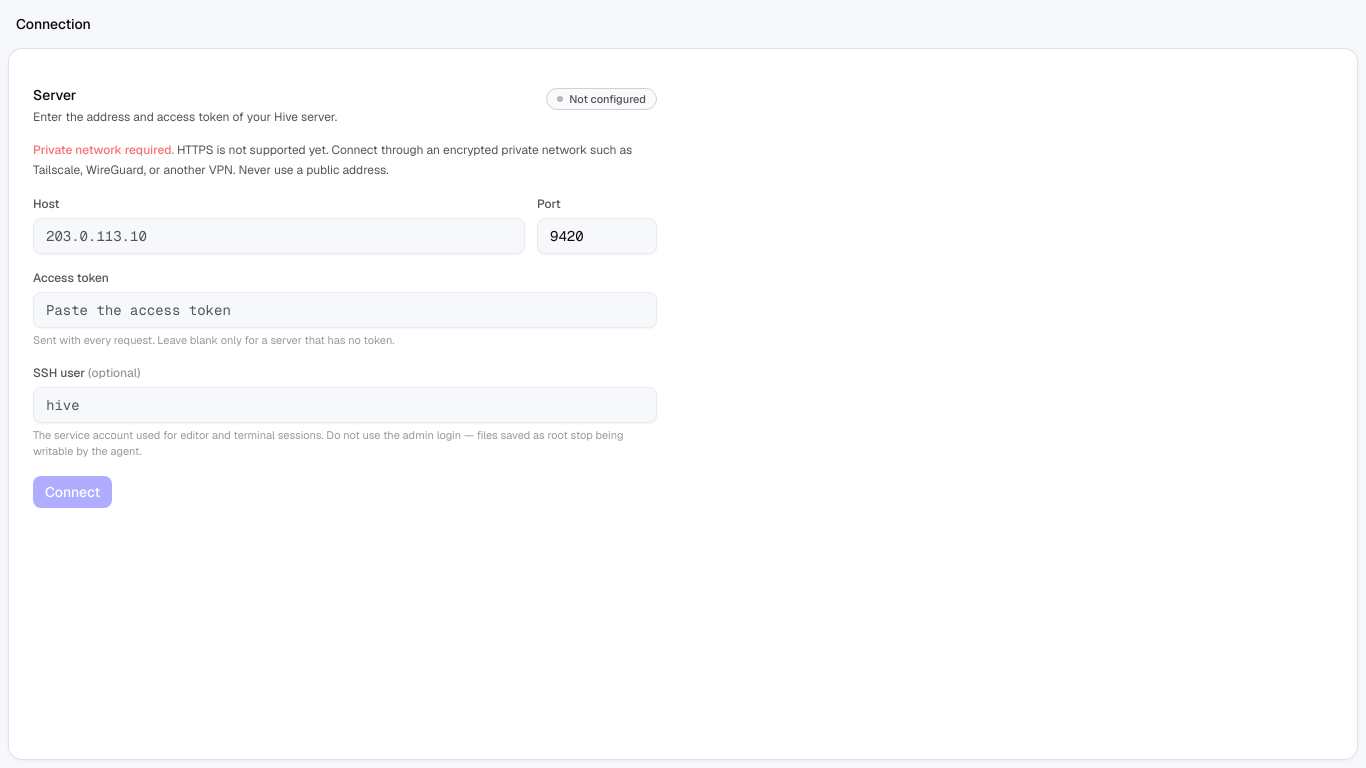
Scenario: ConnectionSettings › reports a rejected token distinctly from an unreachable server
The width and height of the screenshot is (1366, 768).
Type "100.64.0.10" into the field with placeholder "203.0.113.10".
click(279, 236); type("100.64.0.10")  # box [33,218,525,254]
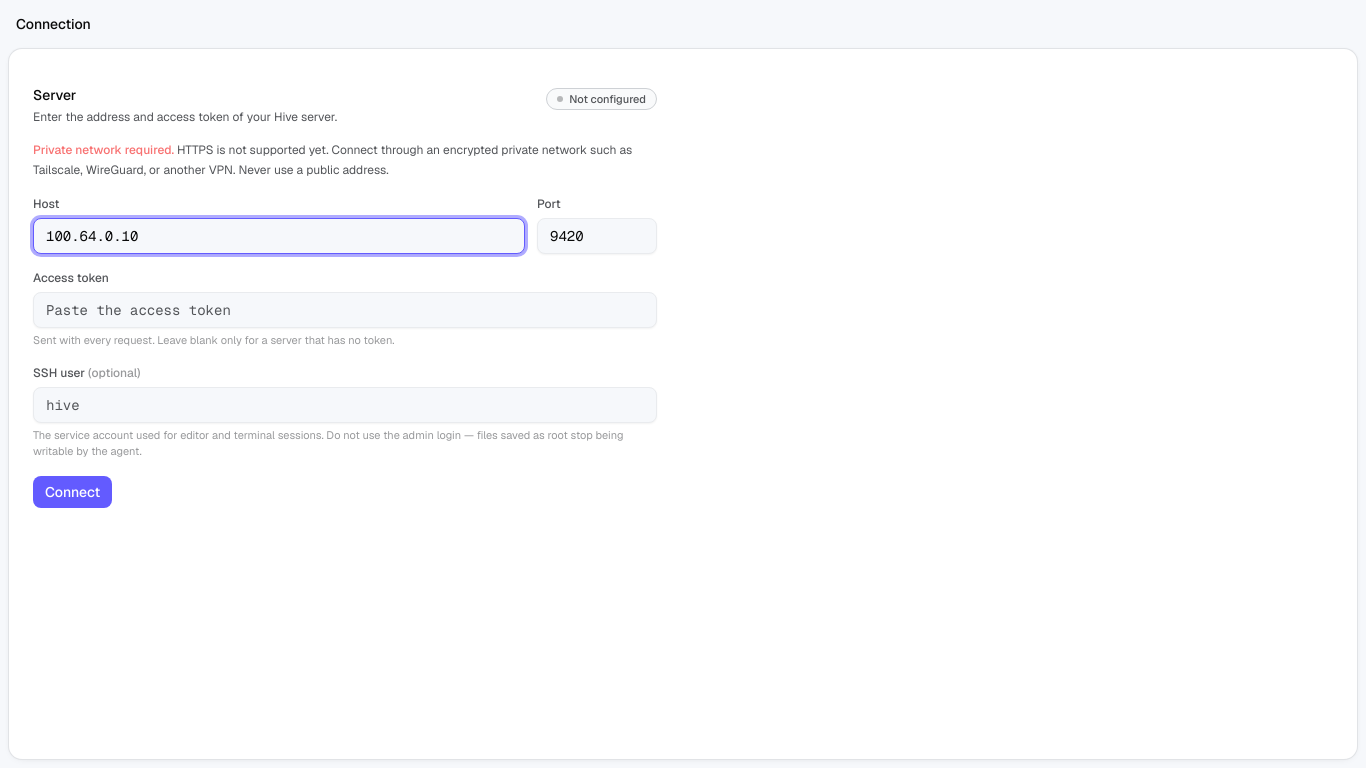
Type "wrong" into the password field with placeholder "Paste the access token".
click(345, 310); type("wrong")  # box [33,292,657,328]
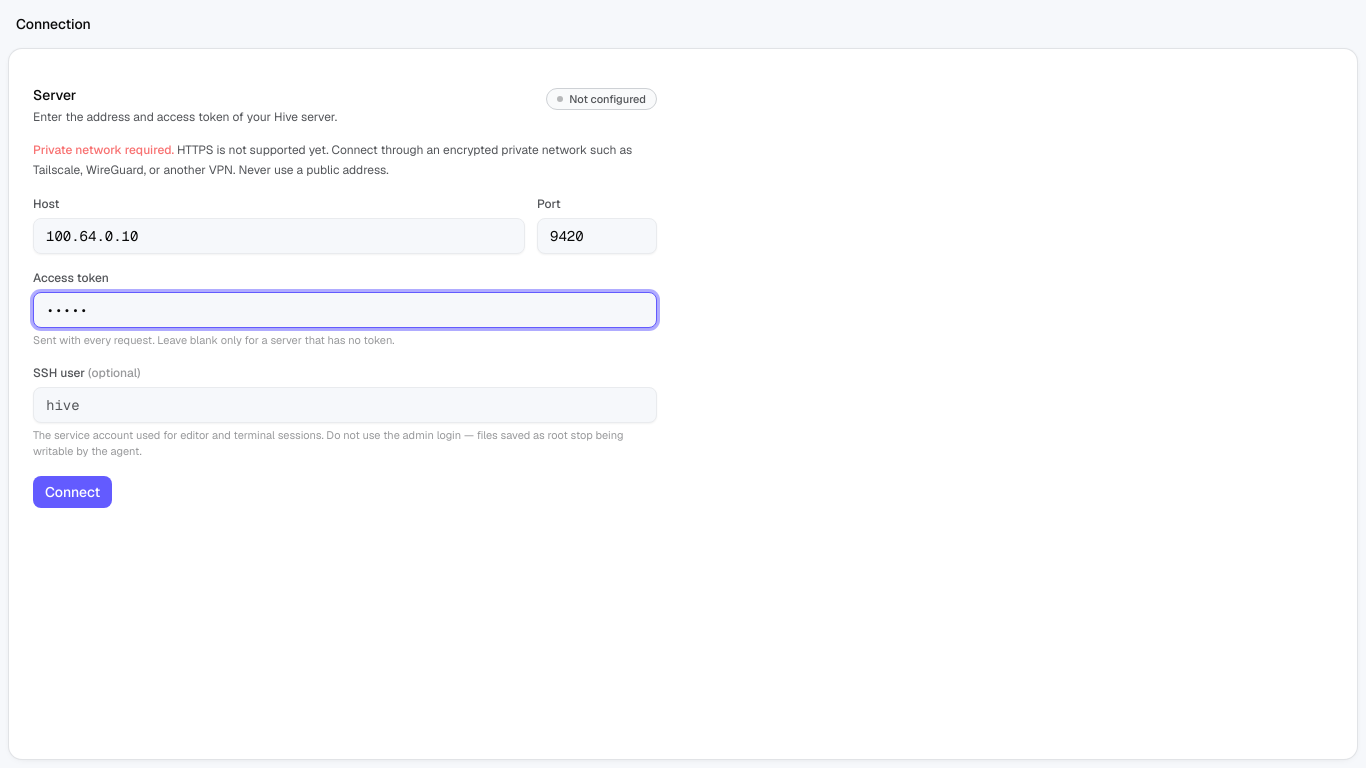
Click the button "Connect".
click(73, 492)  # box [33,476,112,508]
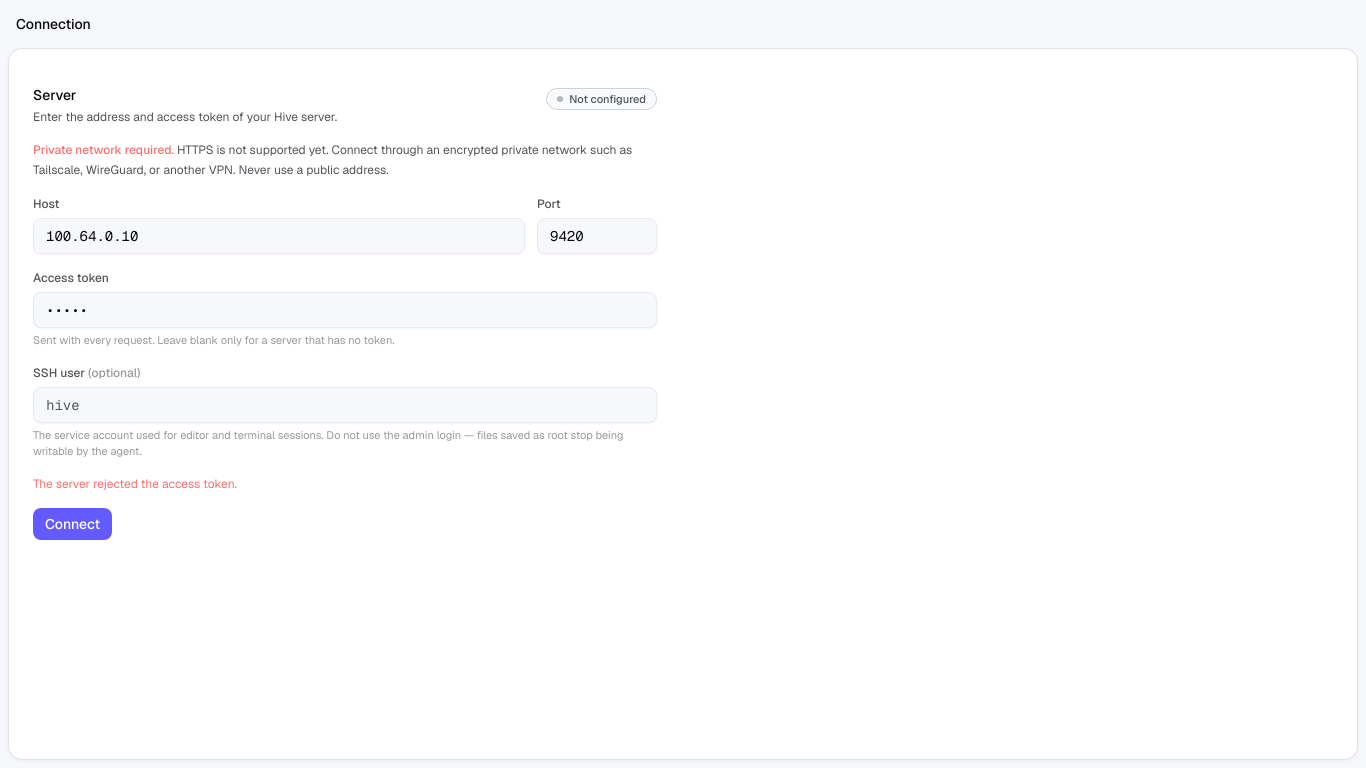
Result: the text "The server rejected the access token." is shown at [33,476,237,492]
